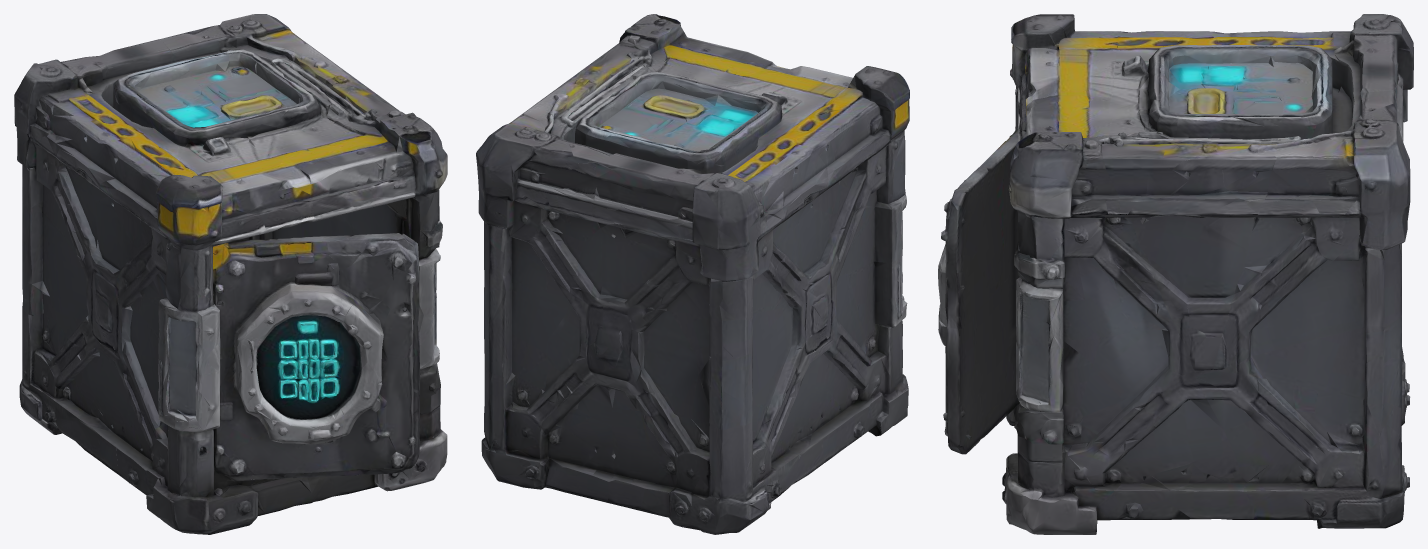
The model's file is coffre-ouvert.glb.
The picture shows the model from 3 angles, left to right: view 1: azimuth 30°, elevation 25°; view 2: azimuth 150°, elevation 25°; view 3: azimuth 270°, elevation 25°; orthographic projection. The views are drawn at different scales.
Bounding box in the file's own units: 0.7362 × 0.8869 × 0.9818.
1 material, 1 textured.
